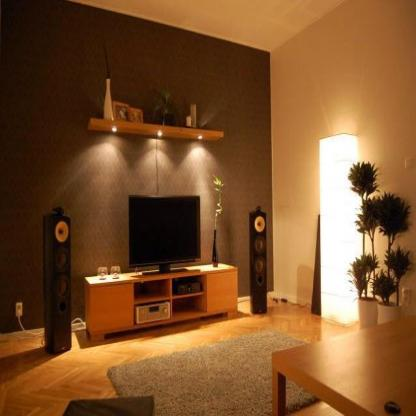other: (310, 128, 368, 328)
